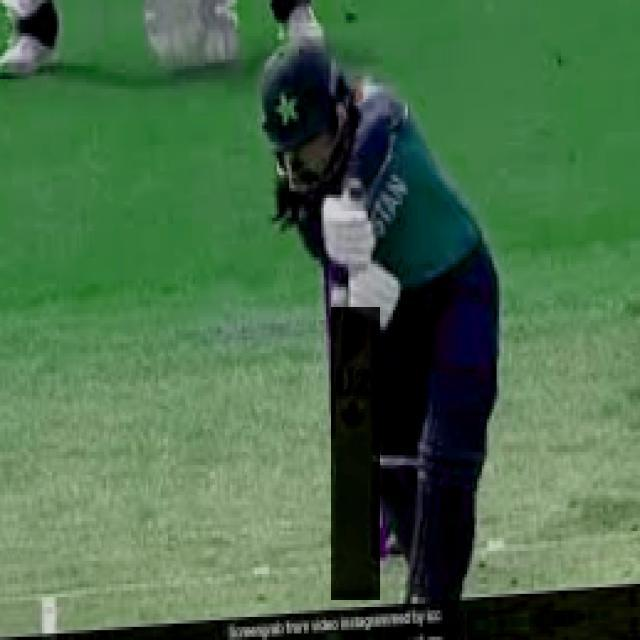bat: (332, 305, 382, 599)
